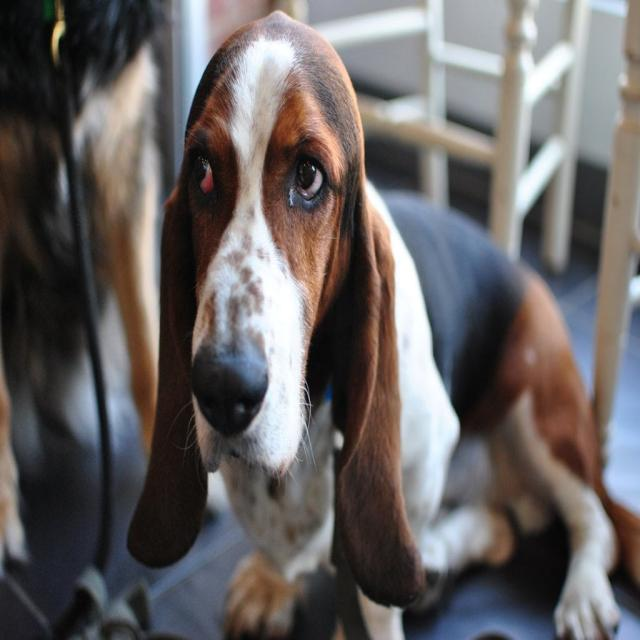fungal infection: (224, 213, 296, 328), (261, 334, 303, 403), (300, 456, 336, 524), (244, 84, 273, 168), (233, 460, 267, 528), (192, 289, 231, 336), (280, 512, 318, 551)
